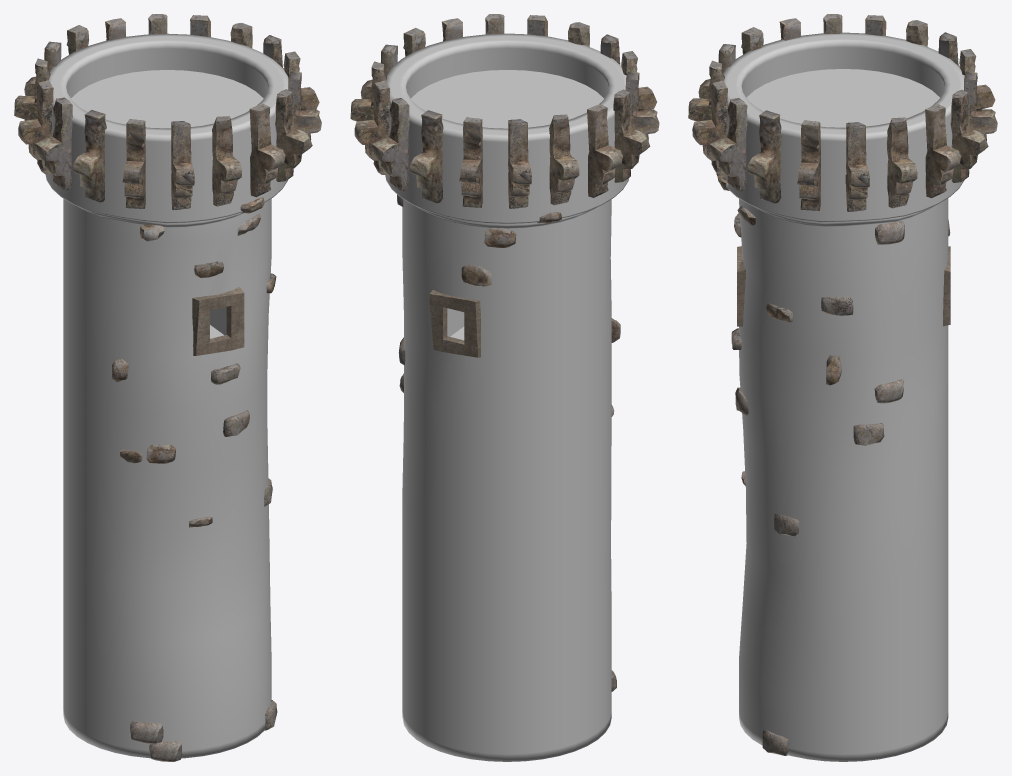
The model's file is SM_EntranceLargePillar08.FBX.
3 views of the same model, side by side, from view 1: azimuth 30°, elevation 25°; view 2: azimuth 150°, elevation 25°; view 3: azimuth 270°, elevation 25° (orthographic).
Parts seen in each view (by area): view 1: SM_EntranceLargePillar08; view 2: SM_EntranceLargePillar08; view 3: SM_EntranceLargePillar08.
Part boxes in pixels (x1,y1,x2,y2): SM_EntranceLargePillar08: (14, 14, 321, 761); SM_EntranceLargePillar08: (350, 14, 659, 761); SM_EntranceLargePillar08: (688, 14, 997, 761).
Size of the model in its own units: 890 by 886 by 2065.
